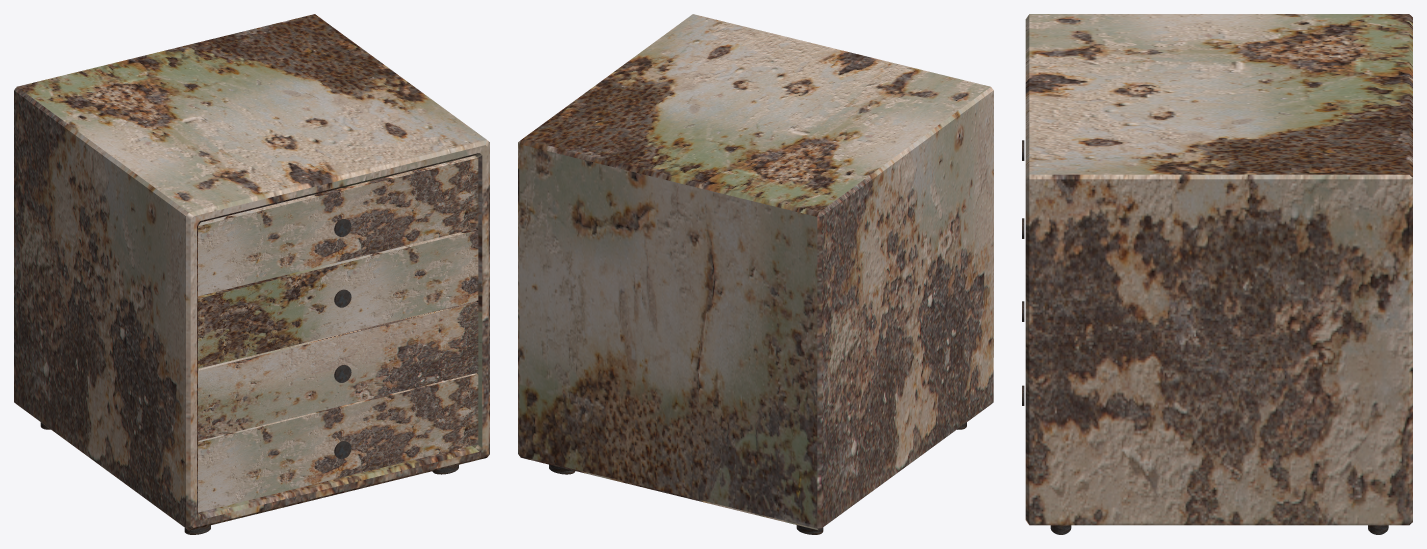
Rendered from EscrivaninhaPreta.fbx.
3 renders of one model, left to right at view 1: azimuth 30°, elevation 25°; view 2: azimuth 150°, elevation 25°; view 3: azimuth 270°, elevation 25°, orthographic. The views are drawn at different scales.
Parts seen in each view (by area): view 1: pCube1, pCube2, pCube3, pCube4, pCube5; view 2: pCube1; view 3: pCube1.
Part boxes in pixels (bbox=[...]): pCube1: bbox=[14, 14, 489, 530]; pCube2: bbox=[198, 155, 478, 296]; pCube3: bbox=[198, 228, 478, 368]; pCube4: bbox=[198, 301, 478, 440]; pCube5: bbox=[198, 373, 478, 512]; pCube1: bbox=[518, 14, 993, 530]; pCube1: bbox=[1025, 14, 1412, 525].
Size of the model in its own units: 0.9216 by 0.9687 by 0.9305.
Materials: 2 (2 with a texture image).
